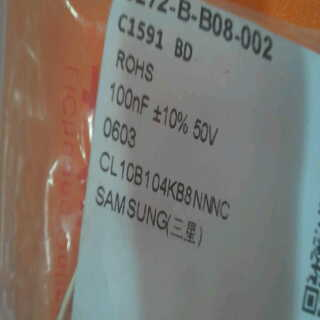100nF: (100, 80, 159, 120)
